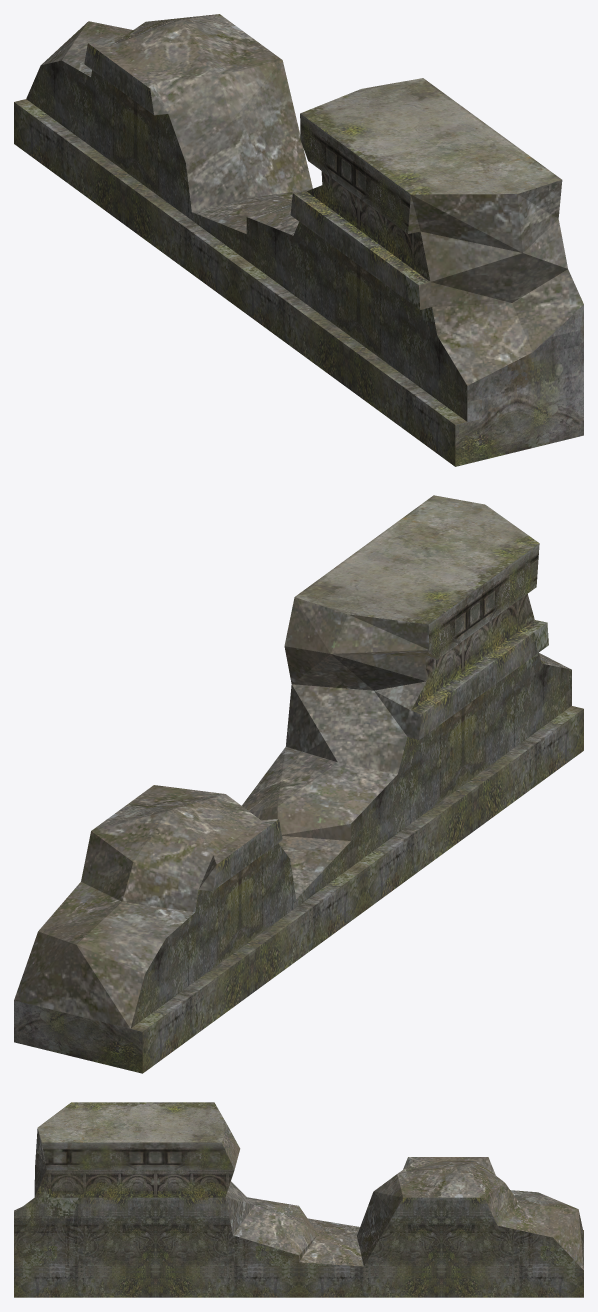
File: bg_lut_lucastle_brosewall03b_sm_psy.FBX
The picture shows the model from 3 angles, top to bottom: view 1: azimuth 30°, elevation 25°; view 2: azimuth 150°, elevation 25°; view 3: azimuth 270°, elevation 25°; orthographic projection. The views are drawn at different scales.
Visible parts, largest first — view 1: bg_lut_lucastle_brosewall03b_sm_psy; view 2: bg_lut_lucastle_brosewall03b_sm_psy; view 3: bg_lut_lucastle_brosewall03b_sm_psy.
Part boxes in pixels (left/top/right/bottom): bg_lut_lucastle_brosewall03b_sm_psy: left=14, top=14, right=583, bottom=466; bg_lut_lucastle_brosewall03b_sm_psy: left=14, top=495, right=583, bottom=1073; bg_lut_lucastle_brosewall03b_sm_psy: left=14, top=1102, right=583, bottom=1297.
Size of the model in its own units: 64.65 by 115 by 384.
